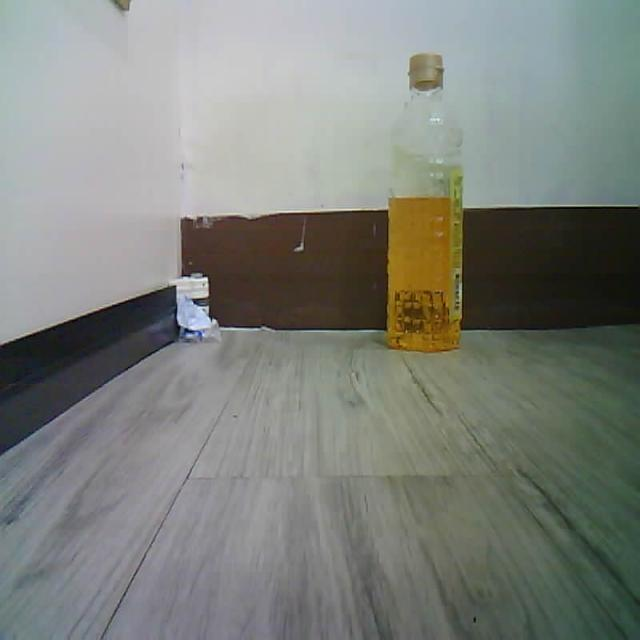bottle: (386, 53, 462, 351)
